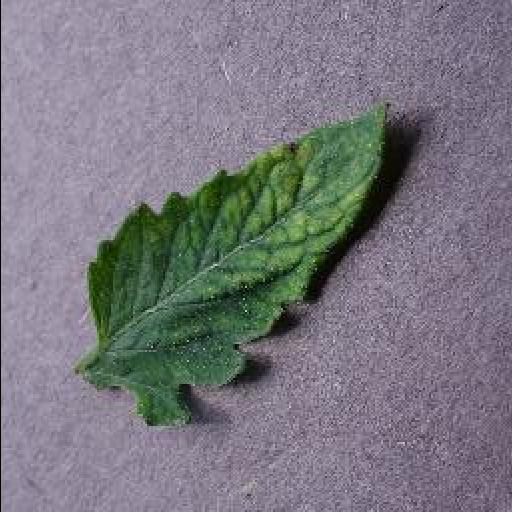Mosaic Virus: (81, 100, 391, 430)
